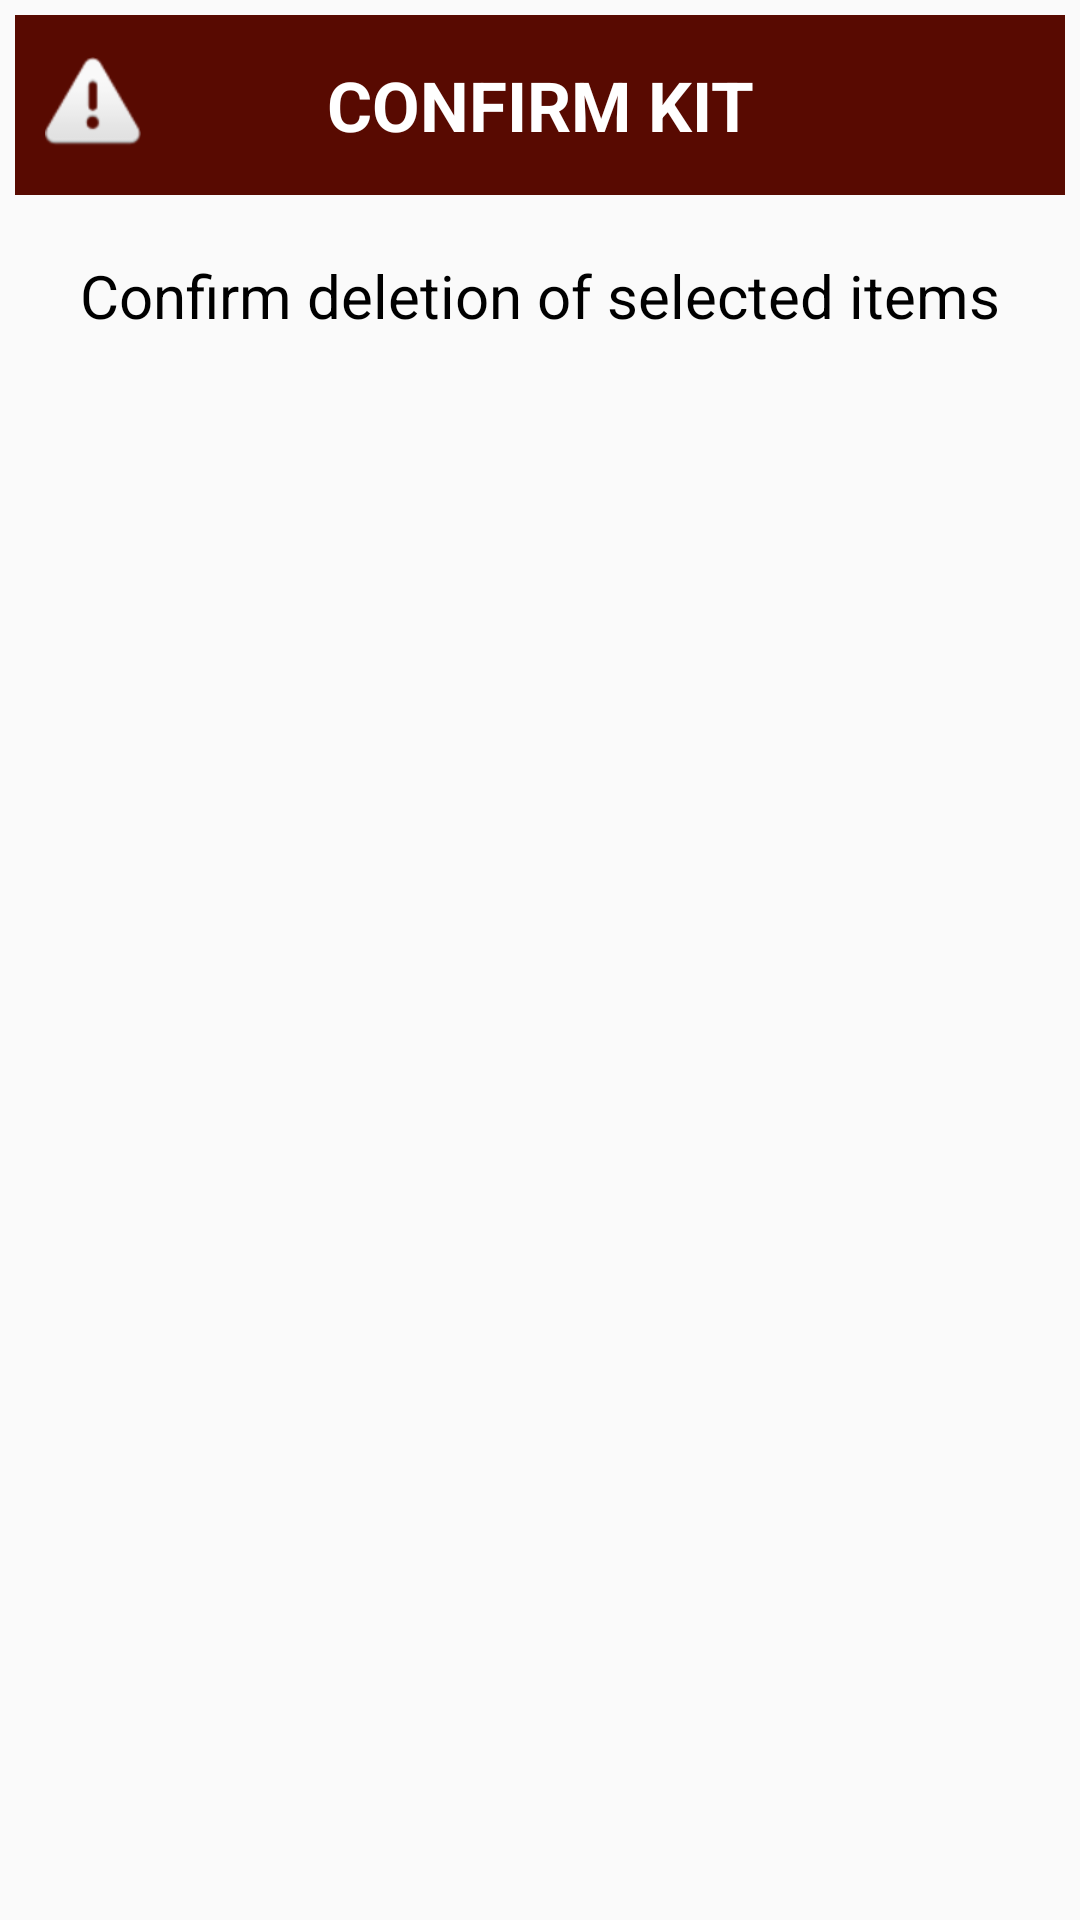

Where icons sit on this 1080x1920 app screen, as (x1, y1, x2, y2):
alert: (45, 57, 141, 144)
